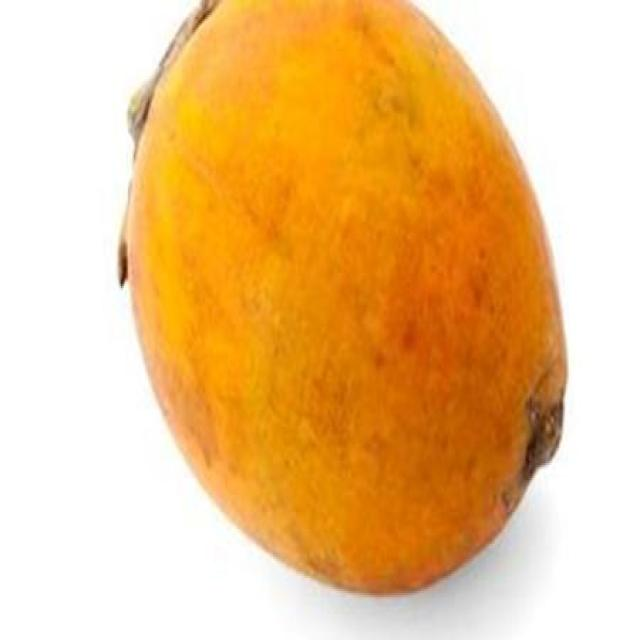good: (121, 0, 569, 599)
